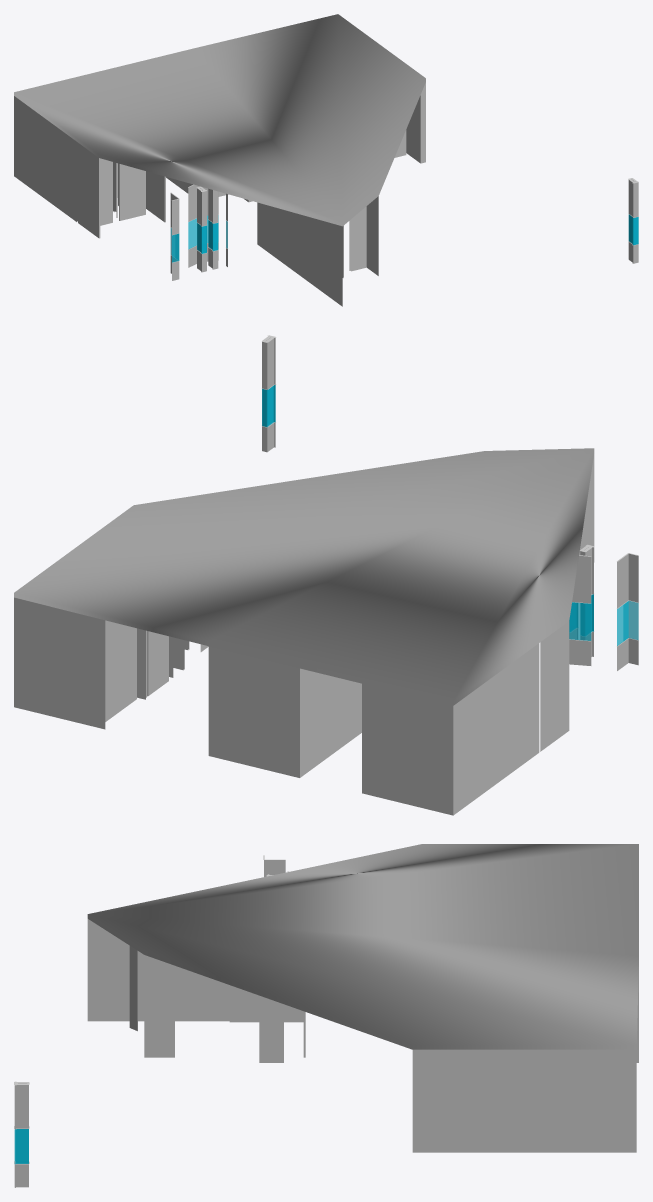
The model's file is 4b5cb836-c333-4985-bc65-f76db5231eef.glb.
3 renders of one model, top to bottom at view 1: azimuth 30°, elevation 25°; view 2: azimuth 150°, elevation 25°; view 3: azimuth 270°, elevation 25°, orthographic. The views are drawn at different scales.
Parts seen in each view (by area): view 1: roof, walls, windows; view 2: roof, walls, windows; view 3: roof, walls, windows.
Boxes of the visible parts, x1,y1,x2,y2 form: roof: [14, 14, 425, 226]; walls: [14, 82, 638, 306]; windows: [170, 214, 638, 262]; roof: [14, 448, 594, 705]; walls: [14, 335, 638, 815]; windows: [262, 385, 638, 645]; roof: [87, 844, 638, 1049]; walls: [14, 855, 638, 1187]; windows: [14, 1129, 28, 1164].
Size of the model in its own units: 17.31 by 3.65 by 19.3.
